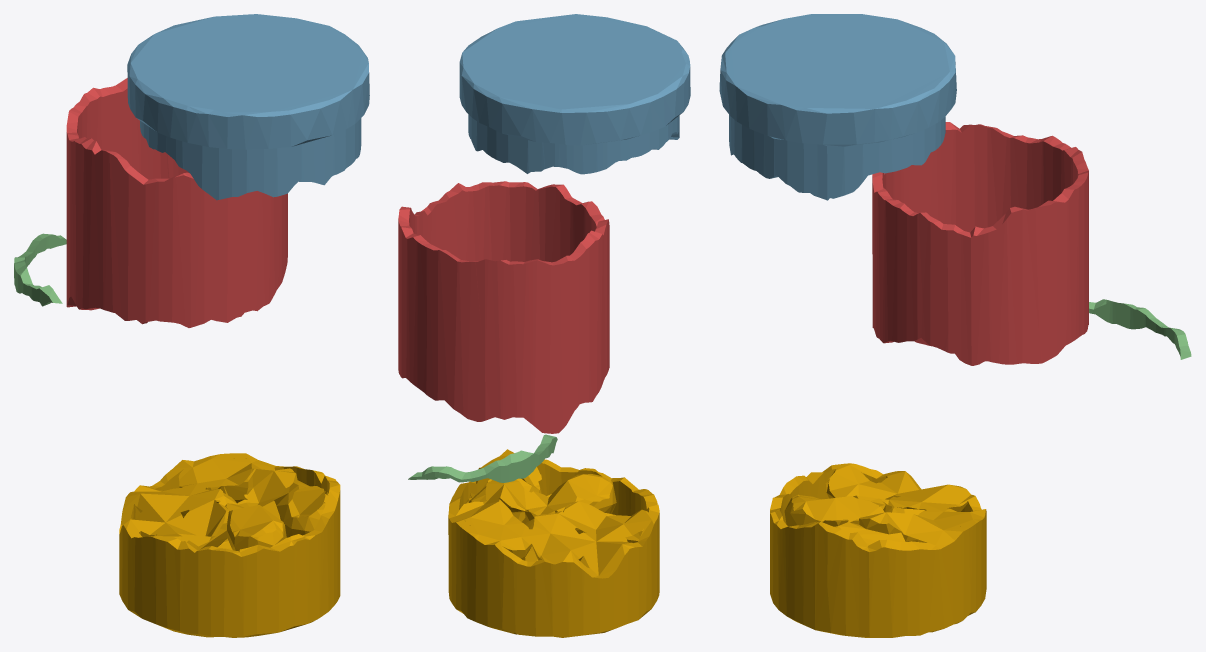
The model's file is mode_4_4pcs_transformed.glb.
The picture shows the model from 3 angles, left to right: view 1: azimuth 30°, elevation 25°; view 2: azimuth 150°, elevation 25°; view 3: azimuth 270°, elevation 25°; orthographic projection. The views are drawn at different scales.
Visible parts, largest first — view 1: piece_1.obj, piece_2.obj, piece_0.obj, piece_3.obj; view 2: piece_1.obj, piece_0.obj, piece_2.obj, piece_3.obj; view 3: piece_1.obj, piece_2.obj, piece_0.obj, piece_3.obj.
Boxes of the visible parts, <box> form: piece_1.obj: <box>66,78,287,327</box>; piece_2.obj: <box>127,14,369,200</box>; piece_0.obj: <box>119,453,340,637</box>; piece_3.obj: <box>14,233,66,306</box>; piece_1.obj: <box>398,181,609,433</box>; piece_0.obj: <box>448,449,659,637</box>; piece_2.obj: <box>459,14,690,174</box>; piece_3.obj: <box>408,434,557,482</box>; piece_1.obj: <box>872,122,1088,365</box>; piece_2.obj: <box>719,14,956,200</box>; piece_0.obj: <box>770,463,986,637</box>; piece_3.obj: <box>1089,299,1191,359</box>.
Size of the model in its own units: 0.6918 by 1.72 by 1.38.
